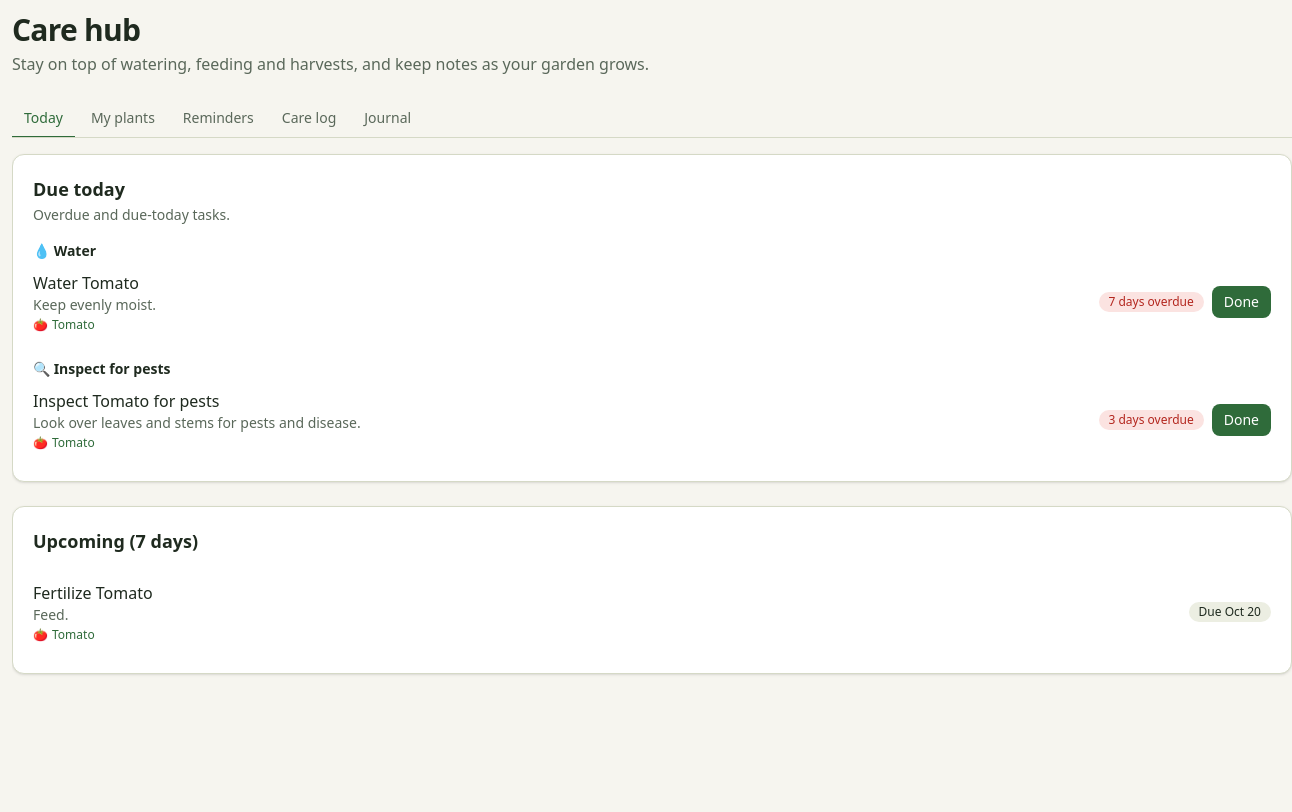
it: CarePage › Reminders › validates the title
Click the tab "Reminders".
click(218, 119)  # box [171,100,266,138]
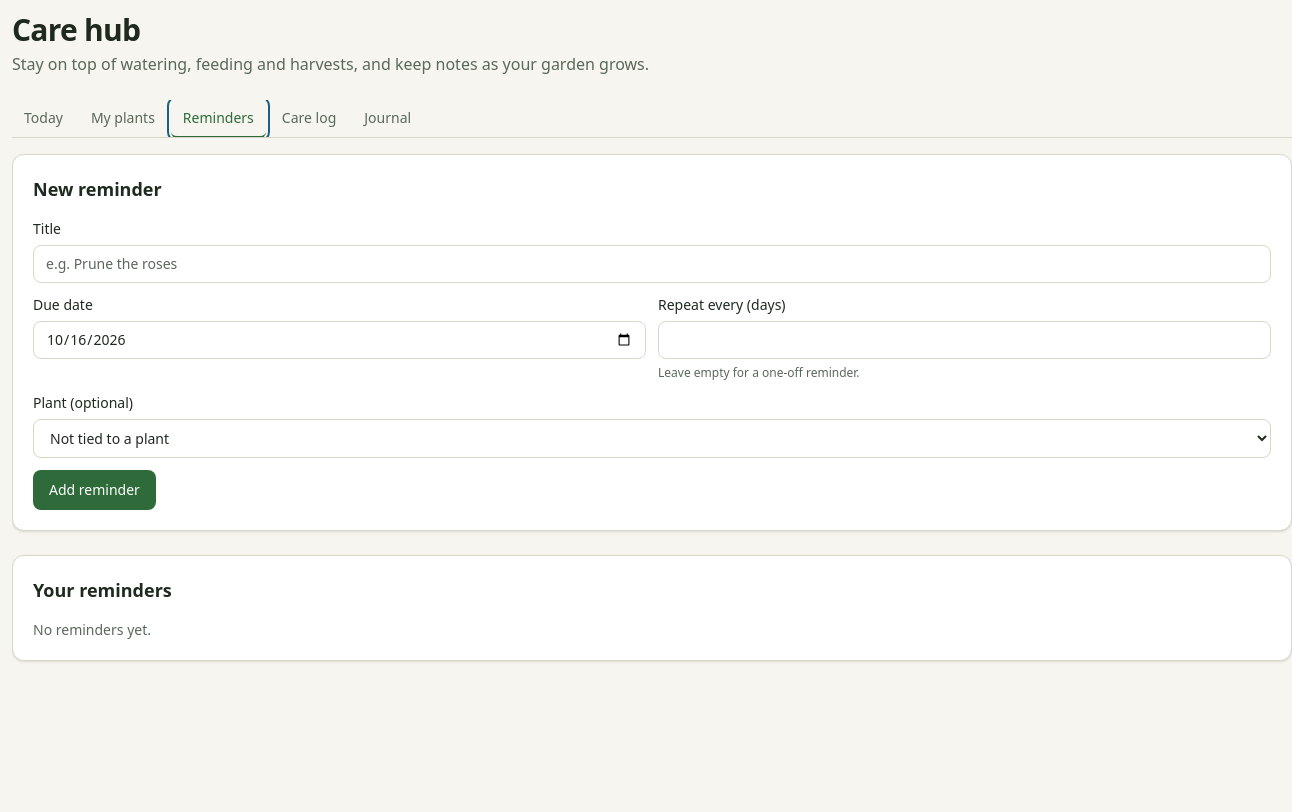
Click the button "Add reminder".
click(94, 490)  # box [33,470,156,510]
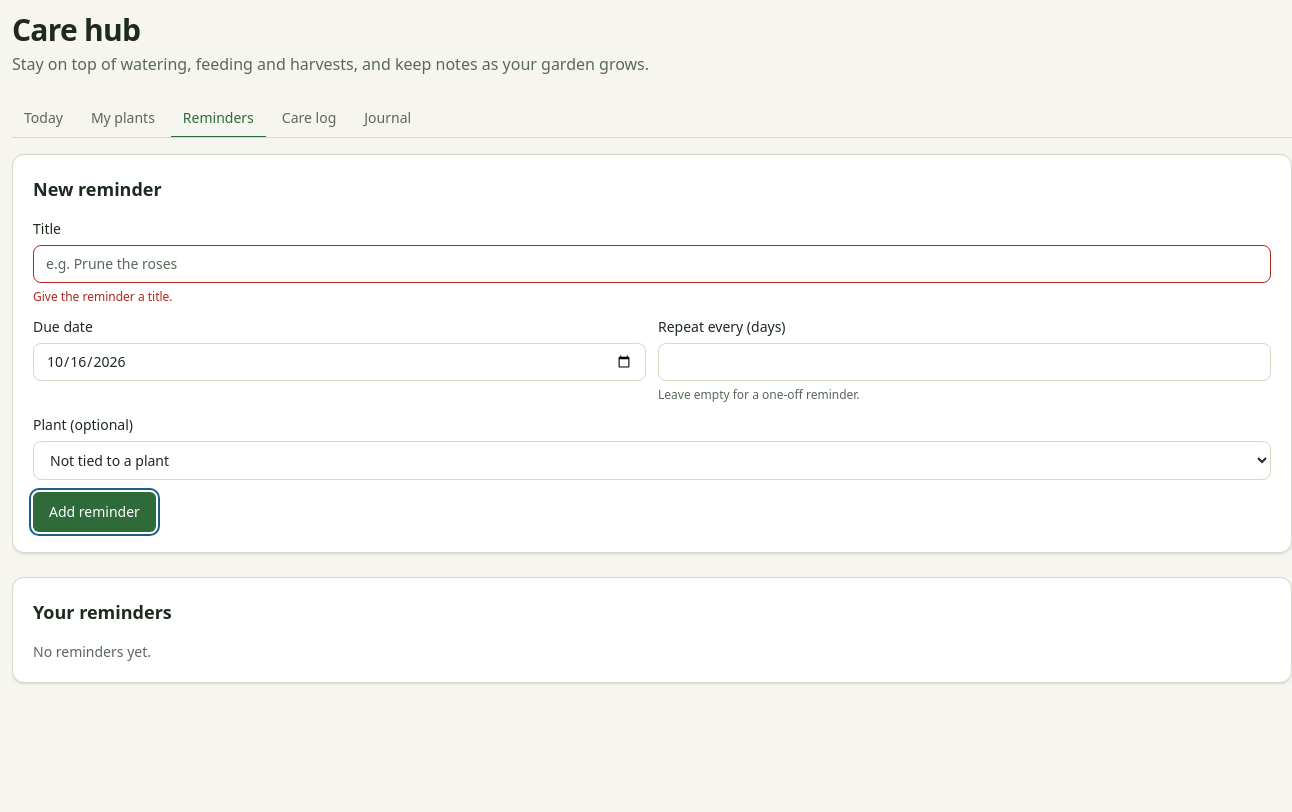
Expected: the text "Give the reminder a title." is shown, [33,288,173,305]
